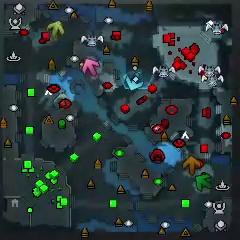x1: (81, 58, 100, 77)
x2: (48, 21, 64, 39)
x3: (125, 72, 144, 92)
x4: (195, 172, 213, 191)
x5: (182, 156, 201, 175)
